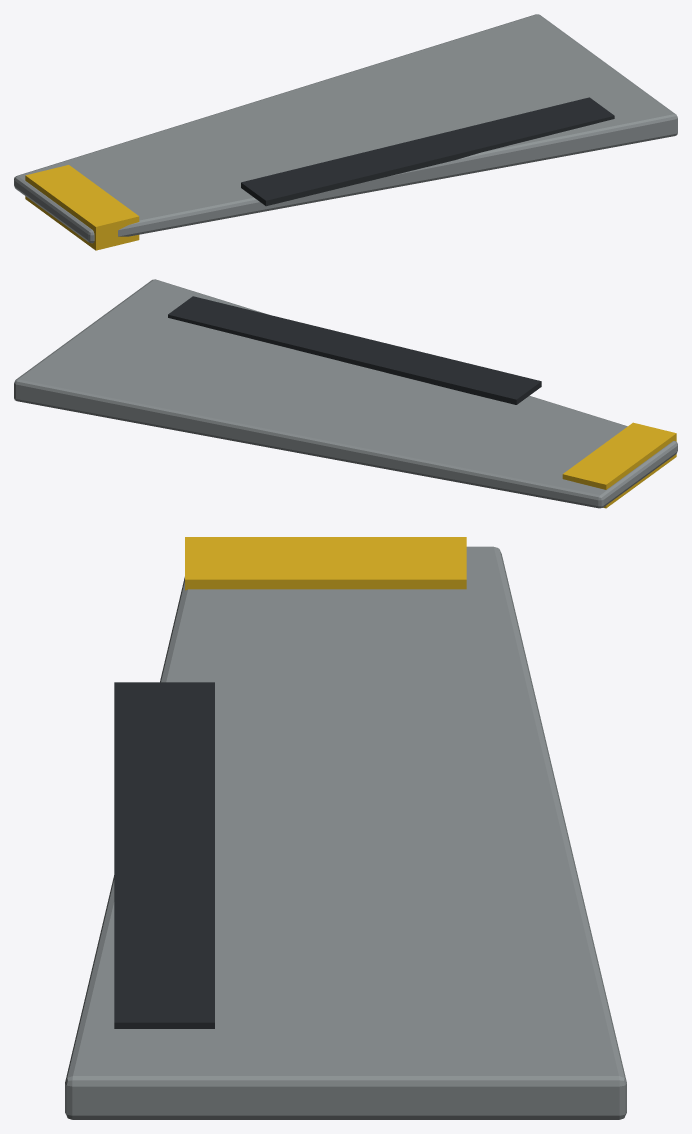
The model's file is site_dropship_wing.glb.
The picture shows the model from 3 angles, top to bottom: view 1: azimuth 30°, elevation 25°; view 2: azimuth 150°, elevation 25°; view 3: azimuth 270°, elevation 25°; orthographic projection. The views are drawn at different scales.
Visible parts, largest first — view 1: wing, flap, tipstripe; view 2: wing, flap, tipstripe; view 3: wing, flap, tipstripe.
Boxes of the visible parts, x1,y1,x2,y2 form: wing: (14, 14, 677, 243); flap: (241, 97, 614, 206); tipstripe: (25, 165, 139, 250); wing: (14, 279, 677, 508); flap: (168, 296, 541, 404); tipstripe: (562, 422, 676, 508); wing: (65, 546, 626, 1119); flap: (114, 682, 214, 1028); tipstripe: (185, 537, 466, 590).
Size of the model in its own units: 6.4 by 0.28 by 2.79.
